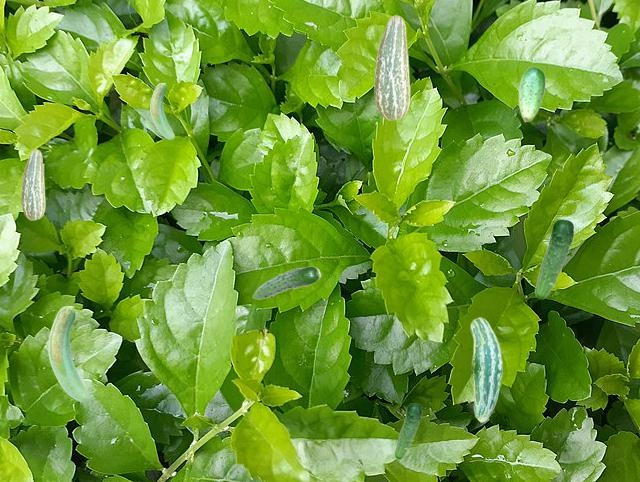cucumber: (48, 306, 87, 400), (374, 15, 409, 119), (470, 317, 501, 421), (534, 219, 573, 298), (252, 266, 320, 298), (21, 149, 44, 219), (394, 403, 421, 458), (518, 66, 544, 121), (150, 83, 173, 138)
